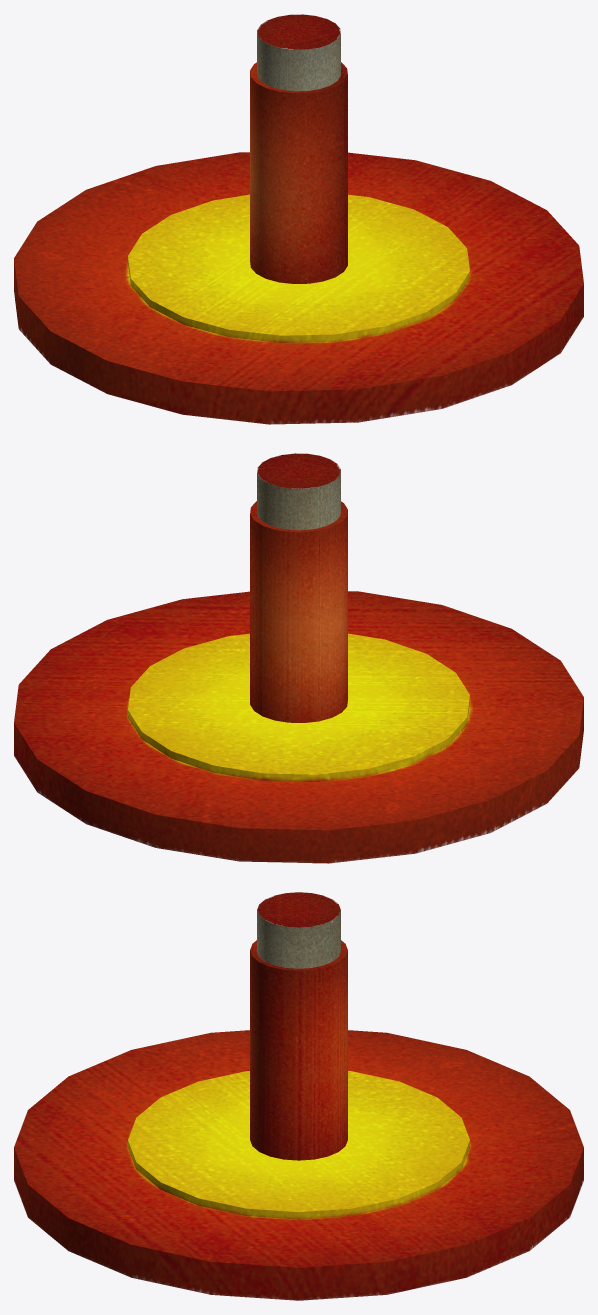
Rendered from merrygoland_Paul.fbx.
3 renders of one model, top to bottom at view 1: azimuth 30°, elevation 25°; view 2: azimuth 150°, elevation 25°; view 3: azimuth 270°, elevation 25°, orthographic.
Visible parts, largest first — view 1: pCylinder3; view 2: pCylinder3; view 3: pCylinder3.
Boxes of the visible parts, x1,y1,x2,y2 form: pCylinder3: (14,14,583,424); pCylinder3: (14,453,583,863); pCylinder3: (14,892,583,1300).
Bounding box in the file's own units: 125 × 65.4 × 125.
Materials: 1 (1 with a texture image).
